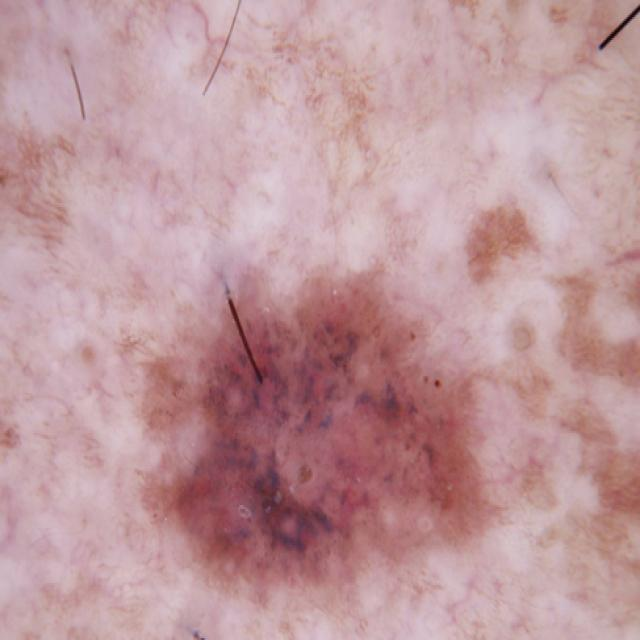Carcinoma: (140, 245, 554, 588)
